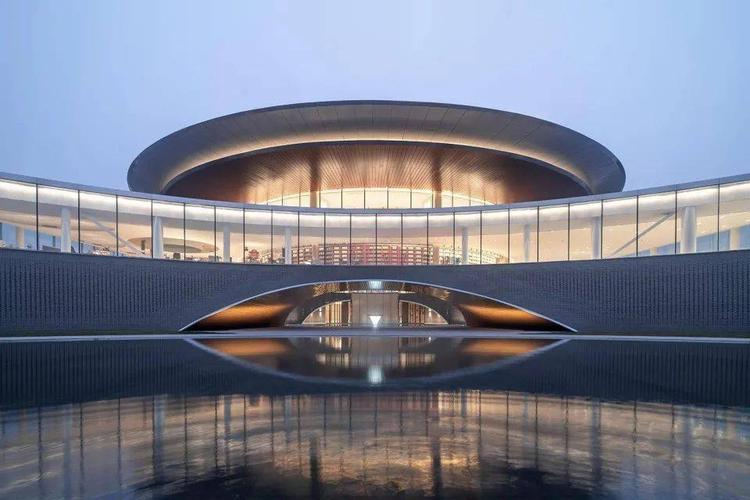buildings: (18, 102, 726, 372)
